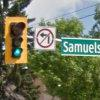Traffic light: (2, 12, 33, 76)
